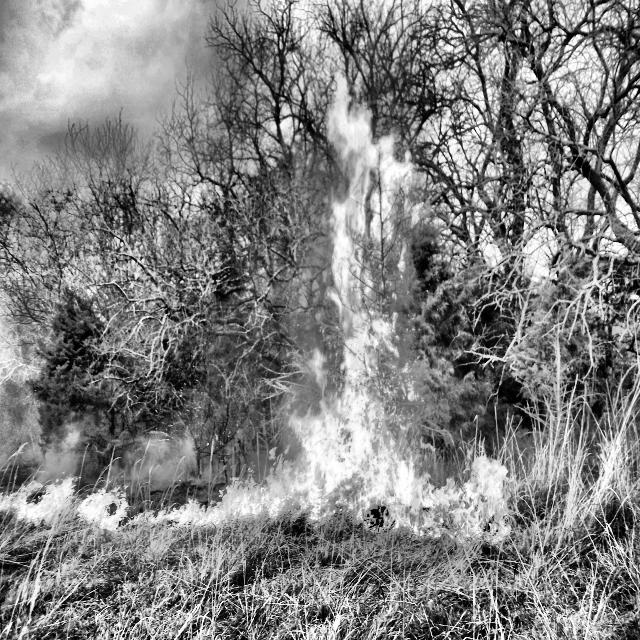fire: (9, 59, 569, 559)
